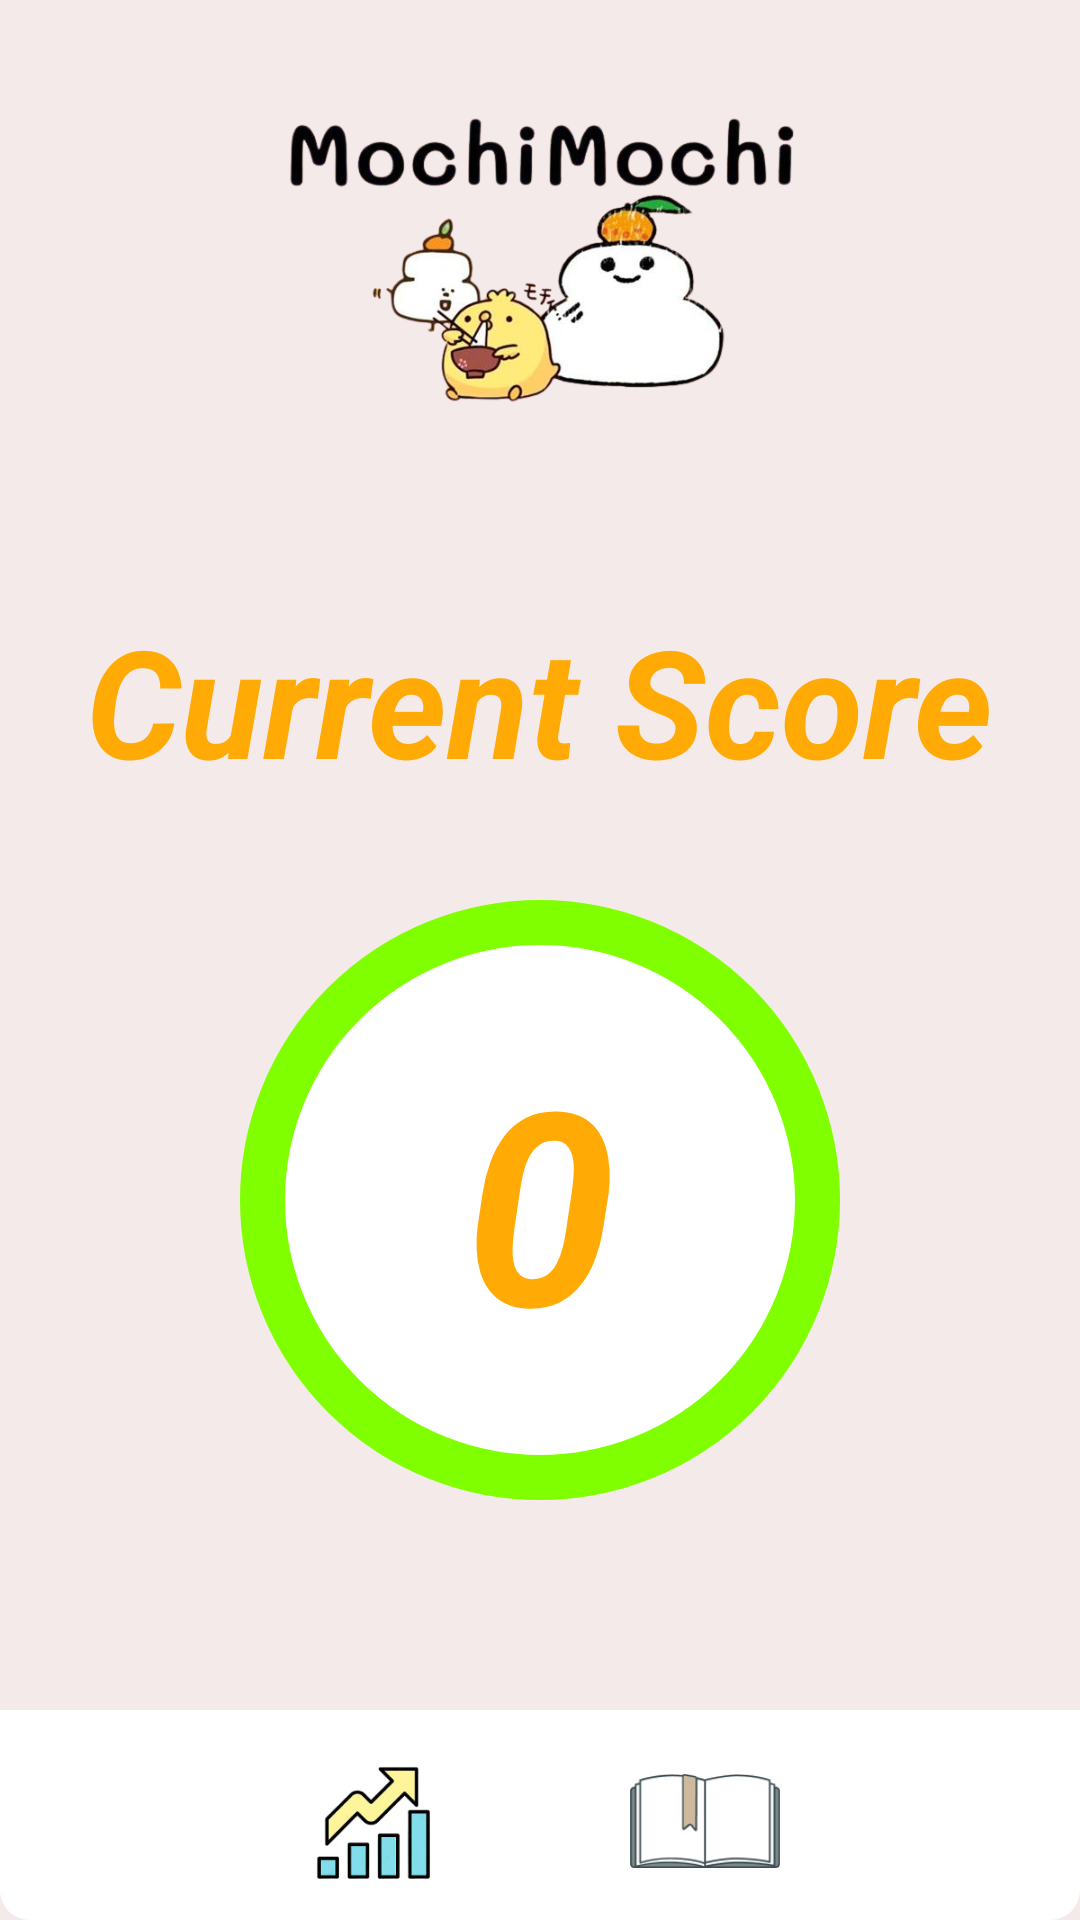

Icon click points for this 1080*1920 phone screenshot, format (x=x, y=y):
score history: (x=373, y=1823)
